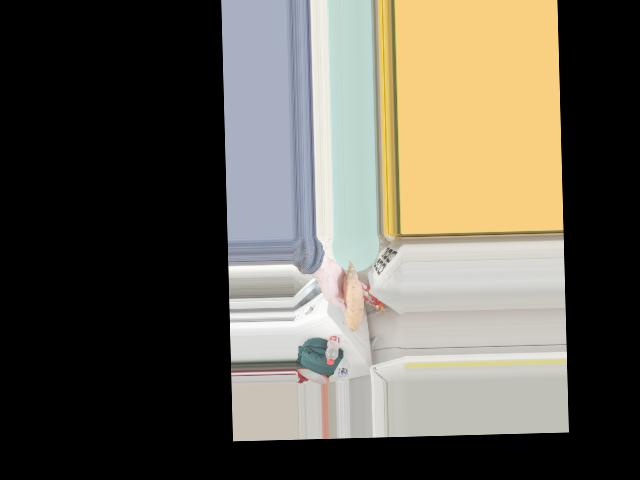sweet_potato: (338, 274, 361, 323)
